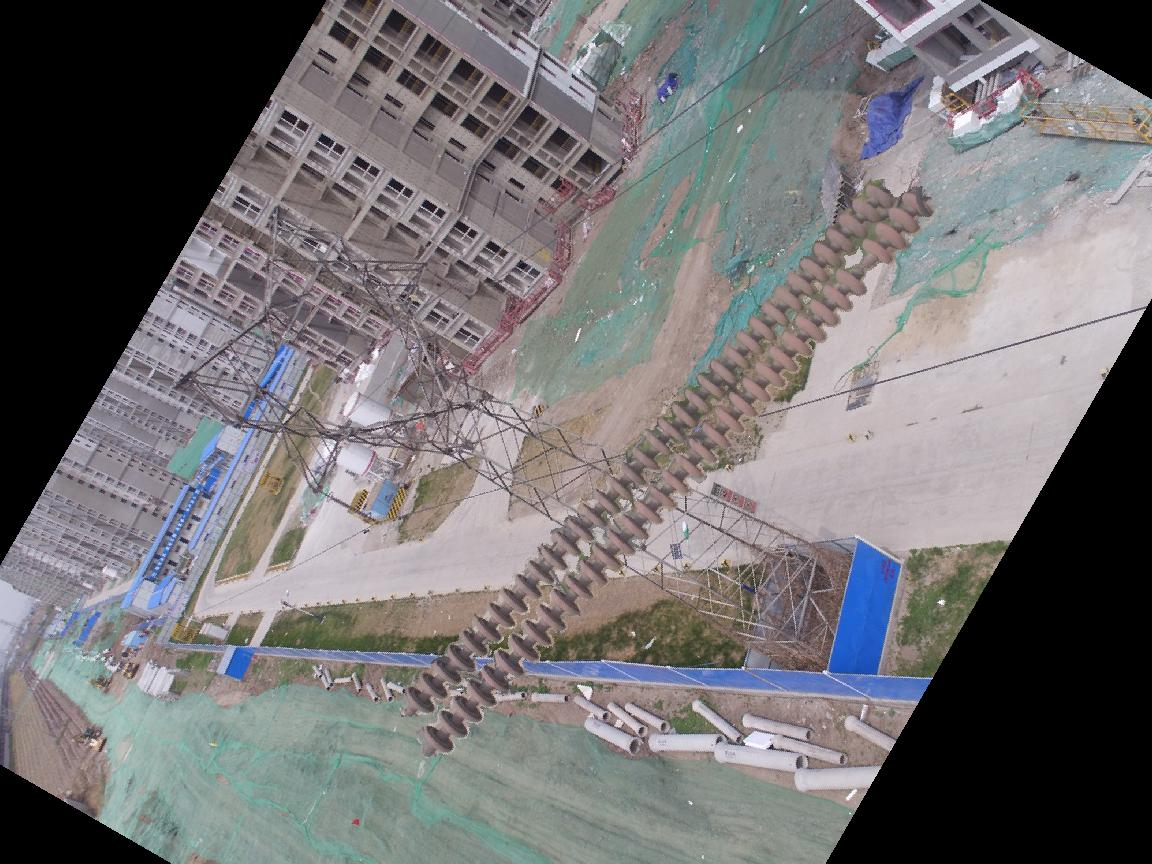insulator: (399, 174, 936, 758)
insulator_stringdrop: (832, 237, 894, 299)
